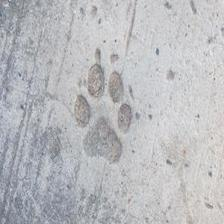dog: (68, 47, 138, 164)
